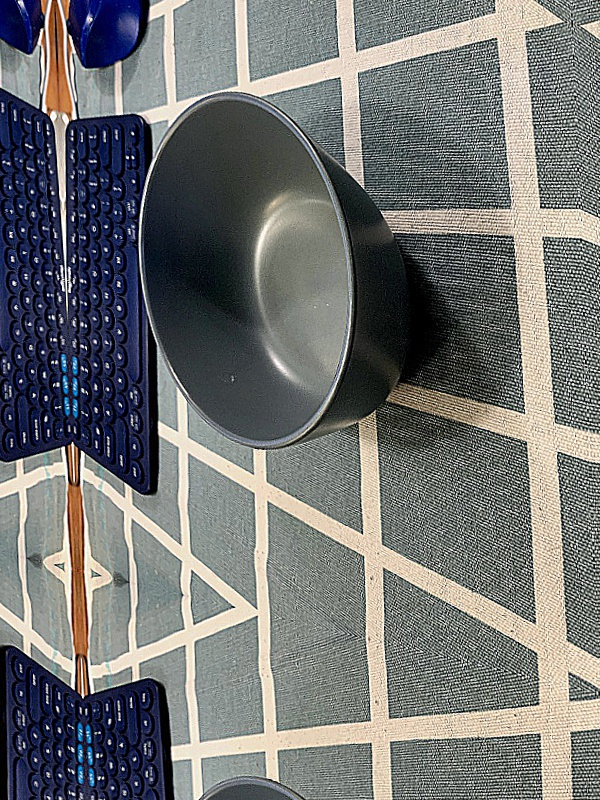bowl_big: (128, 57, 424, 498)
